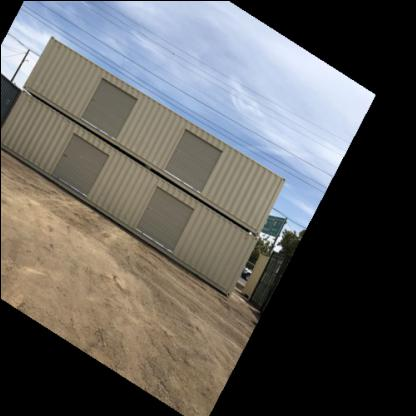Damage: (54, 144, 68, 158), (84, 84, 96, 100), (140, 203, 154, 214)
